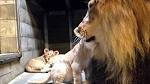lion: (78, 1, 143, 83)
